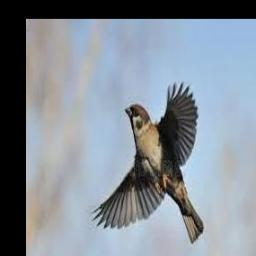Sparrow: (91, 80, 203, 244)
